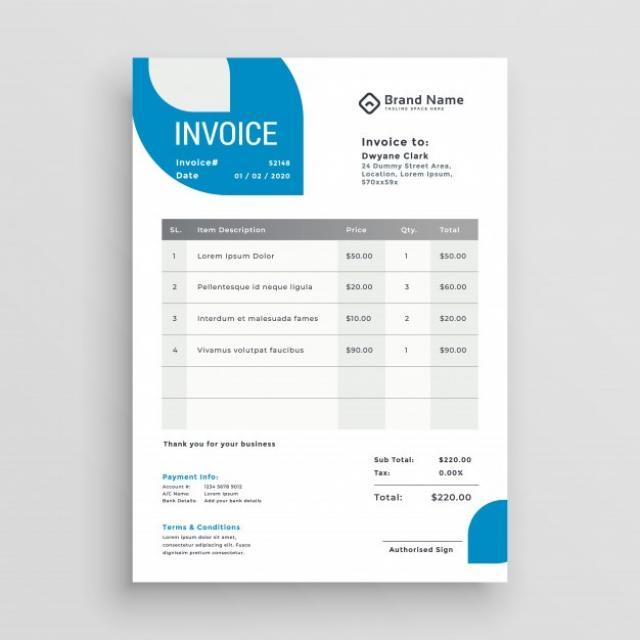customer_address: (357, 163, 462, 188)
customer_name: (358, 150, 444, 162)
invoice_date: (228, 170, 293, 183)
invoice_number: (264, 155, 294, 170)
invoice_subtotal: (435, 454, 475, 465)
invoice_total: (427, 489, 475, 504)
item_description: (194, 243, 324, 364)
item_quantity: (394, 246, 419, 361)
item_total_price: (434, 247, 472, 360)
item_unit_price: (341, 243, 377, 362)
supplier_name: (382, 91, 473, 106)
tax_rate: (434, 467, 470, 482)
